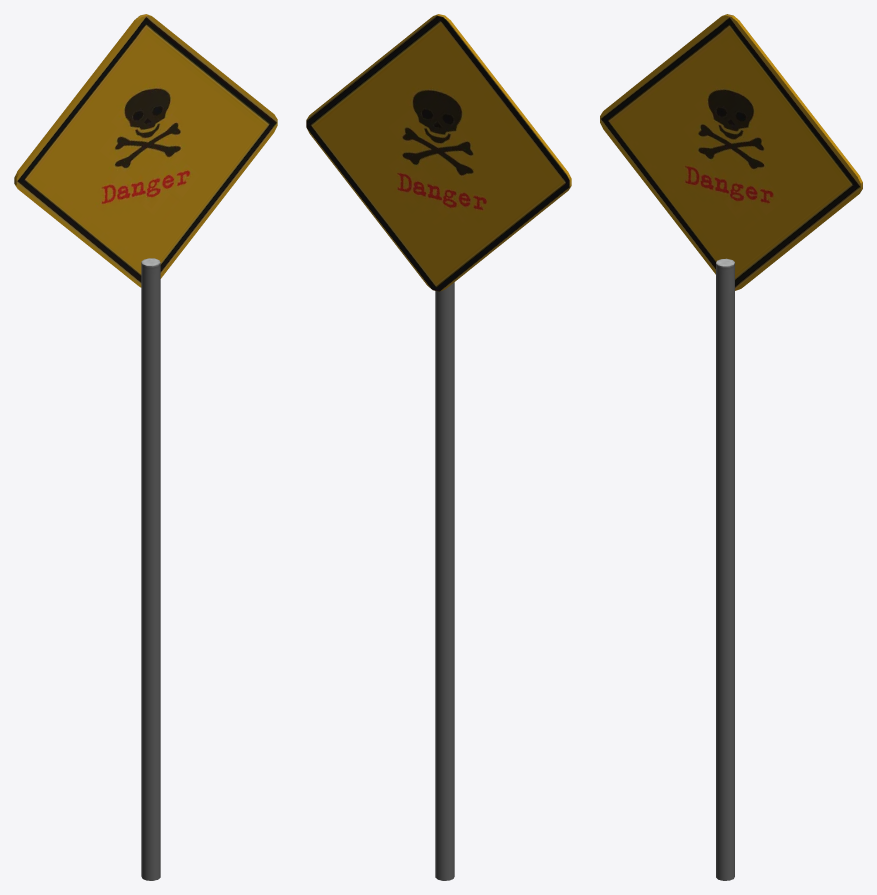
Rendered from Danger board-transformed.glb.
3 renders of one model, left to right at view 1: azimuth 30°, elevation 25°; view 2: azimuth 150°, elevation 25°; view 3: azimuth 330°, elevation 25°, orthographic.
Visible parts, largest first — view 1: danger_board; view 2: danger_board; view 3: danger_board.
Part boxes in pixels (box(x1,y1,x2,y2)): danger_board: box(14, 14, 277, 880); danger_board: box(306, 14, 571, 880); danger_board: box(600, 14, 862, 880).
Size of the model in its own units: 0.3208 by 1.01 by 0.0237.
1 material, 1 textured.
